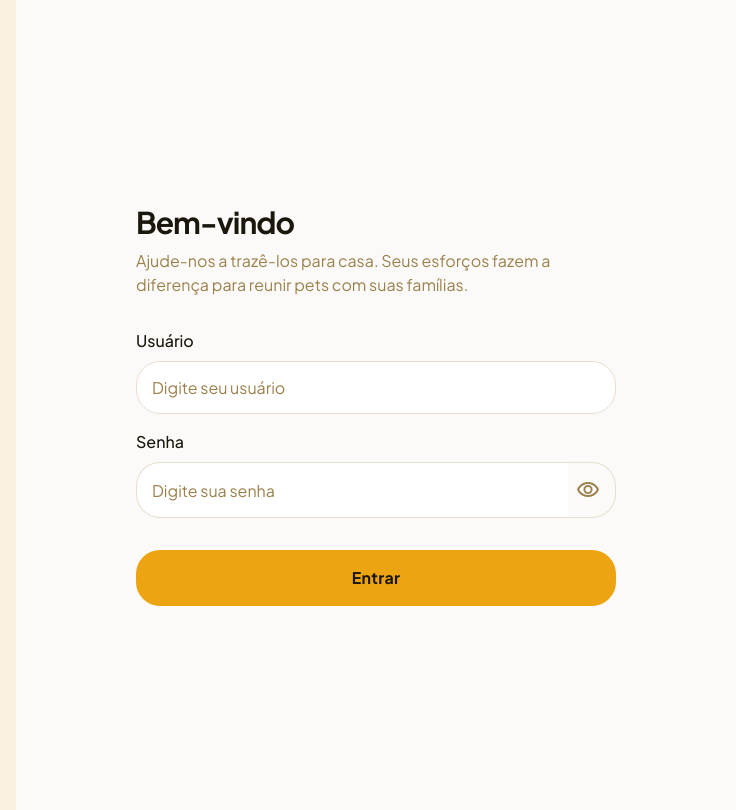
LoginPage › deve desabilitar o botão e mostrar "Entrando..." durante o carregamento
Step 1. Click the button "Entrar" → (376, 578), box x1=136 y1=550 x2=616 y2=606
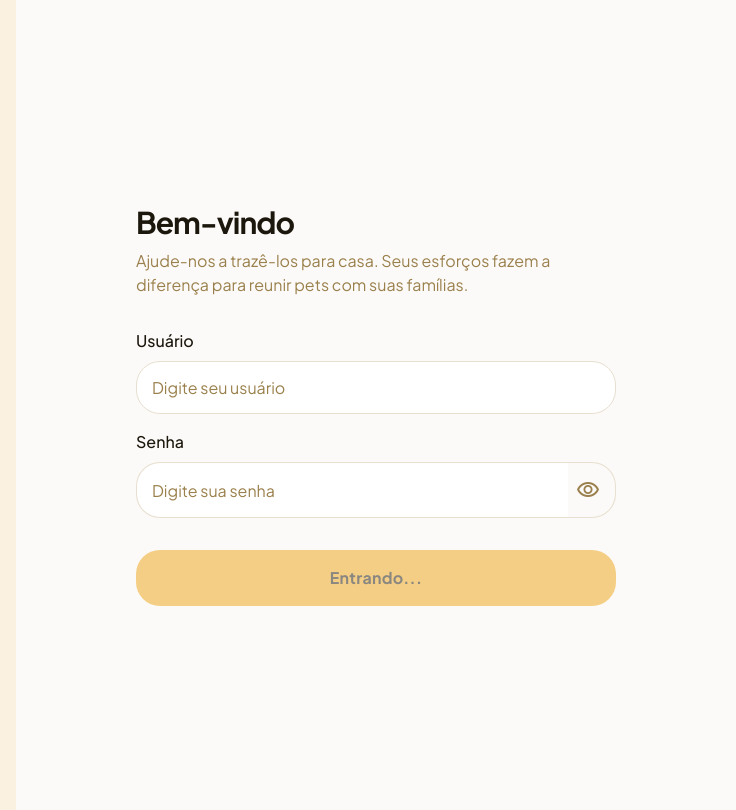
Result: the button named "entrar" is disabled at x1=136 y1=550 x2=616 y2=606
Result: the text "Entrando..." is shown at x1=330 y1=566 x2=422 y2=590
